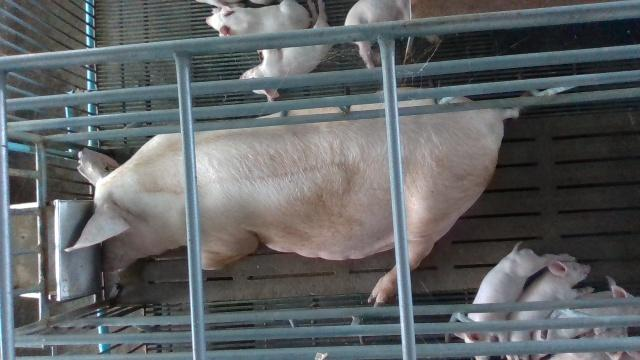piglet: (452, 242, 577, 360), (237, 0, 336, 102), (533, 275, 640, 360), (507, 259, 592, 360), (345, 0, 440, 69), (205, 0, 313, 35)
sow-sleep: (66, 87, 521, 308)
